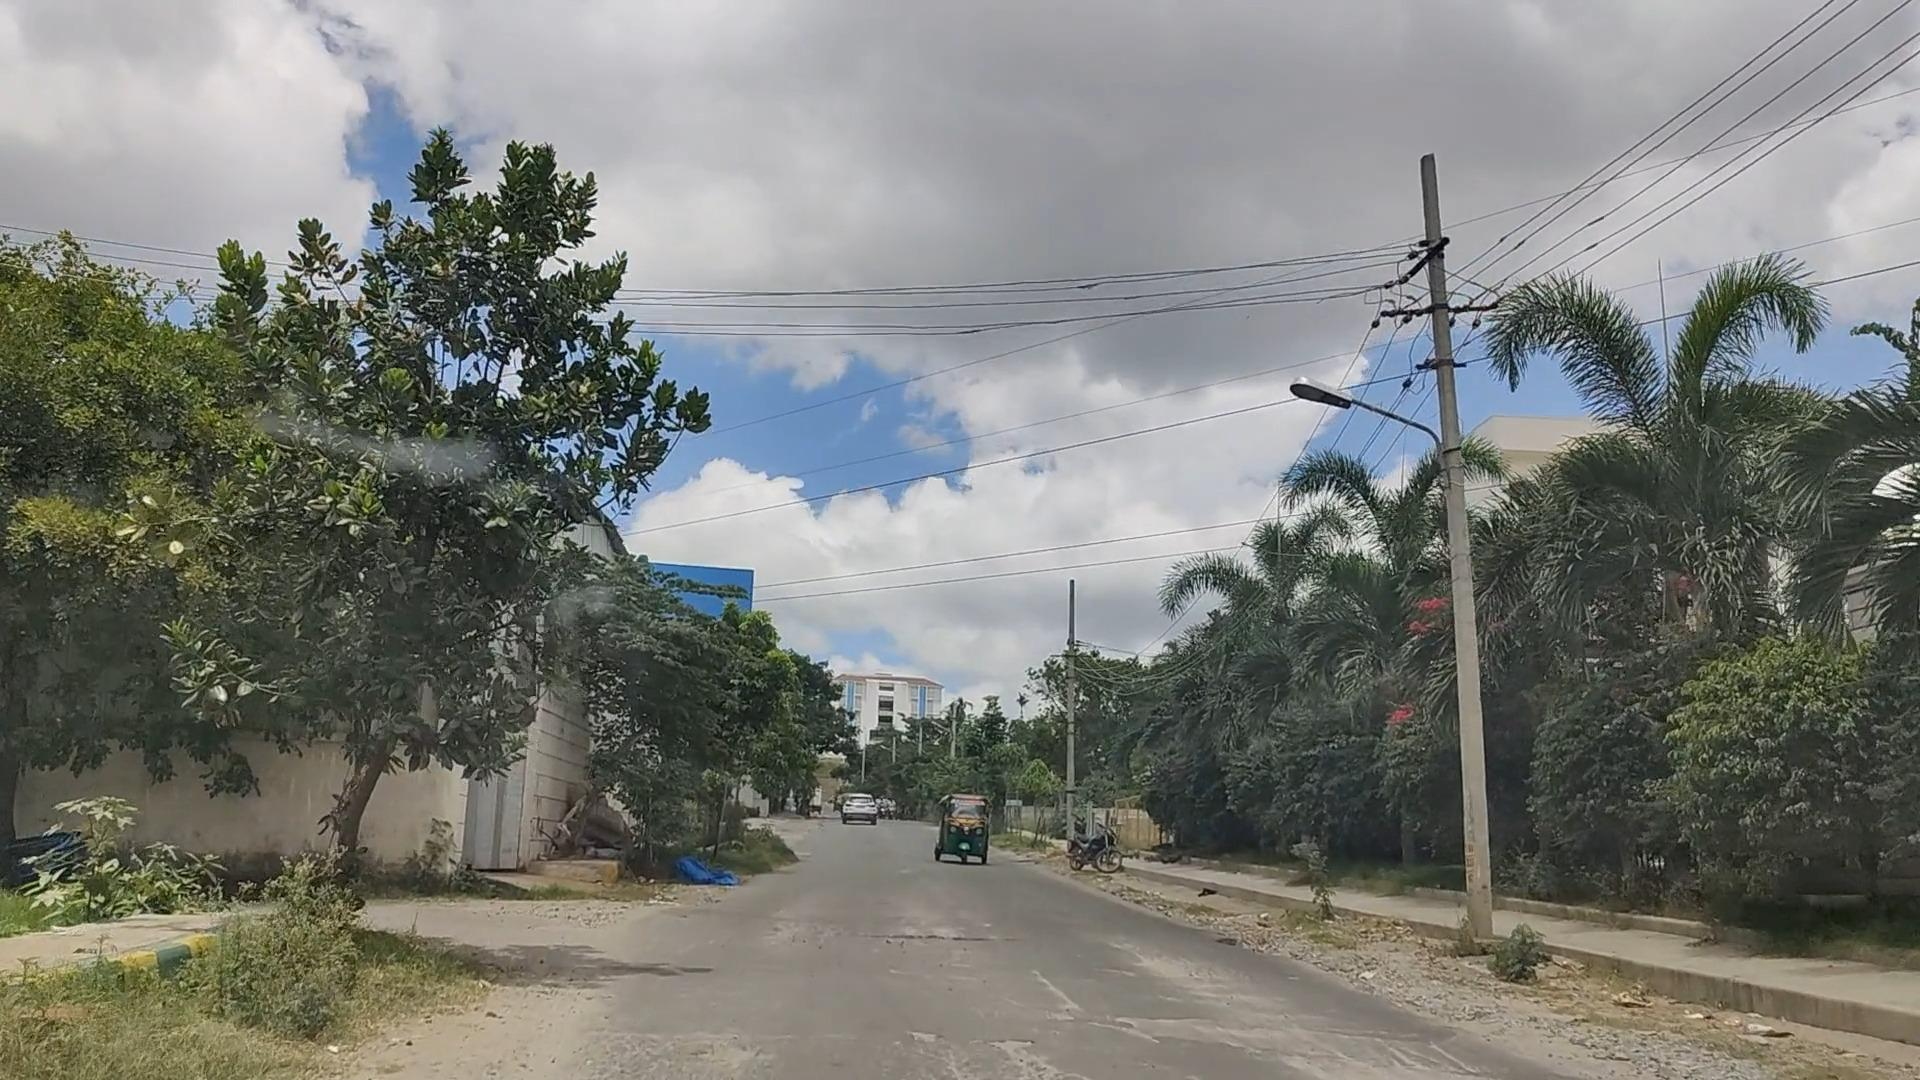RoadDamages: (1079, 986, 1287, 1073), (847, 918, 1039, 968)
